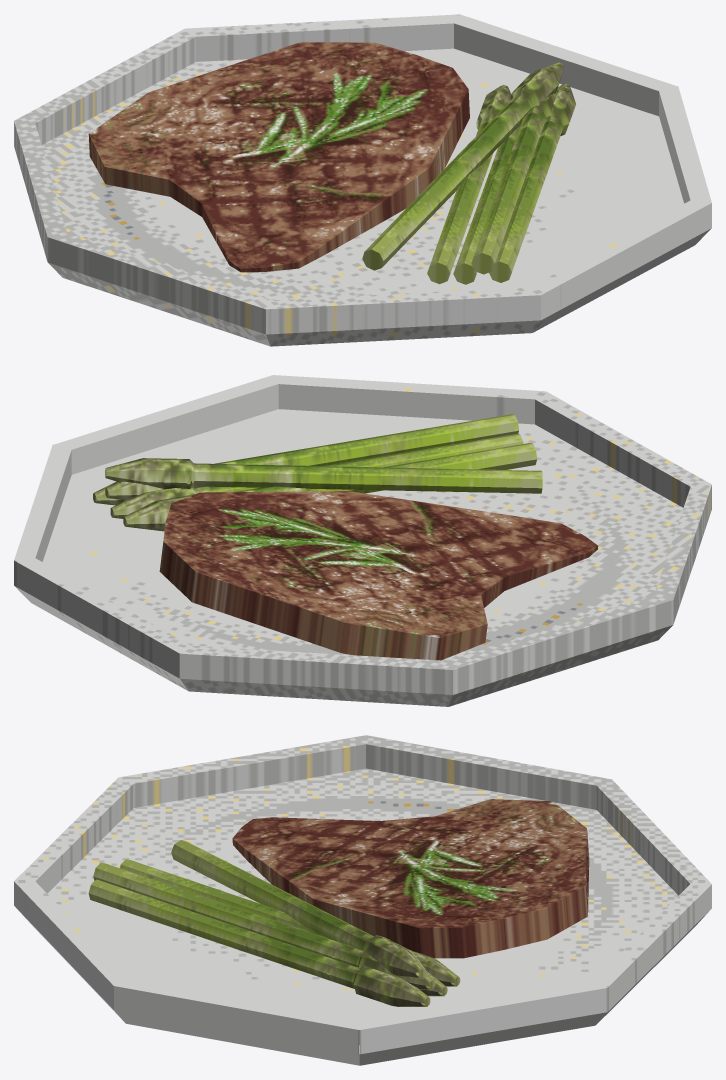
File: SM_Steak.fbx
3 renders of one model, top to bottom at view 1: azimuth 30°, elevation 25°; view 2: azimuth 150°, elevation 25°; view 3: azimuth 270°, elevation 25°, orthographic. The views are drawn at different scales.
Parts seen in each view (by area): view 1: Plate, Steak, Asparagus; view 2: Plate, Steak, Asparagus; view 3: Plate, Steak, Asparagus.
Part boxes in pixels (box(x1,y1,x2,y2)): Plate: box(14, 14, 711, 346); Steak: box(88, 42, 469, 272); Asparagus: box(362, 62, 575, 284); Plate: box(14, 375, 711, 706); Steak: box(159, 491, 598, 660); Asparagus: box(93, 414, 542, 531); Plate: box(14, 735, 711, 1065); Steak: box(232, 799, 589, 958); Asparagus: box(88, 840, 460, 1006).
Size of the model in its own units: 0.6452 by 0.0798 by 0.6452.
